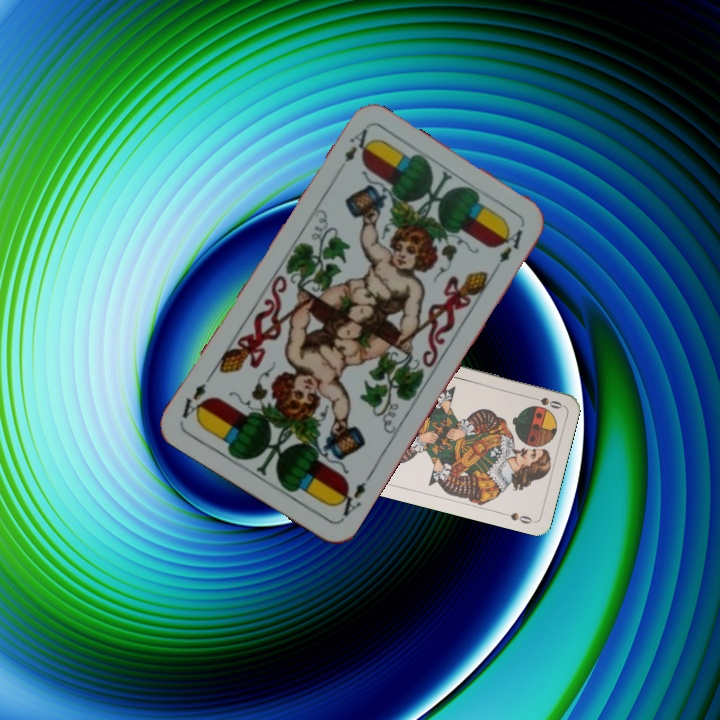EA: (332, 469, 375, 522), (340, 124, 372, 165)
SO: (525, 392, 565, 411)
